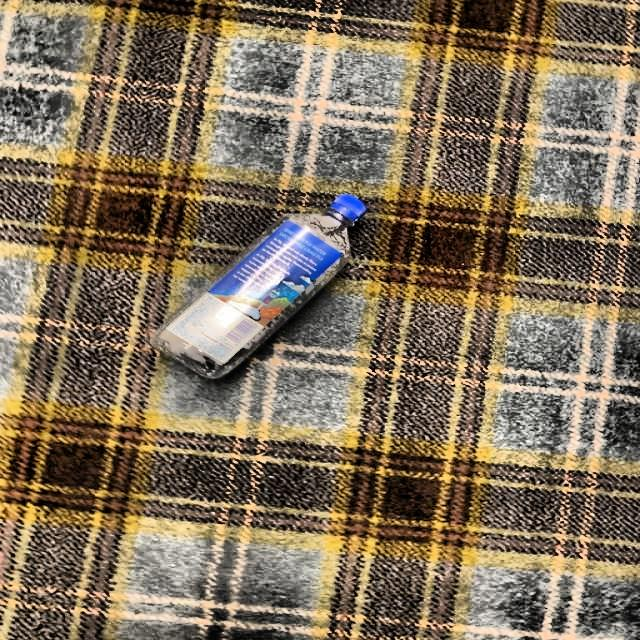plastic bottle: (152, 194, 368, 380)
